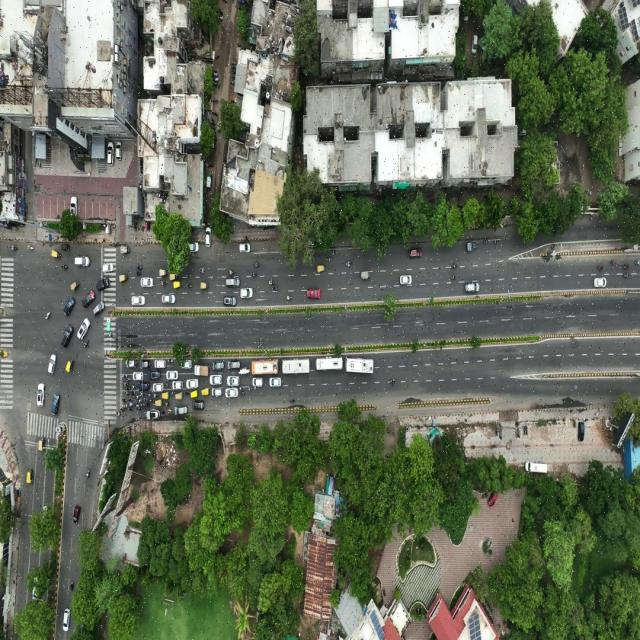3W: (37, 435, 47, 455), (65, 358, 75, 377), (119, 244, 133, 257), (24, 468, 34, 486), (360, 269, 372, 281), (70, 280, 81, 292), (119, 273, 129, 283), (200, 281, 210, 291), (50, 250, 61, 259), (173, 281, 183, 290), (316, 264, 326, 273), (159, 268, 168, 277), (169, 273, 179, 280)
Bus: (345, 355, 374, 376), (251, 358, 279, 376), (282, 358, 311, 375), (315, 355, 343, 372)
Cars: (59, 324, 75, 348), (76, 316, 90, 341), (34, 382, 45, 407), (63, 296, 76, 317), (129, 294, 147, 309), (82, 290, 96, 309), (62, 608, 72, 633), (463, 280, 480, 294), (46, 353, 56, 376), (576, 421, 586, 444), (408, 245, 423, 260), (74, 254, 90, 268), (306, 287, 322, 301), (398, 274, 414, 288), (71, 504, 81, 526), (51, 392, 60, 416), (222, 294, 236, 308), (161, 293, 176, 306), (192, 400, 207, 413), (593, 276, 608, 289), (205, 226, 213, 250), (225, 277, 240, 289), (102, 261, 115, 274), (141, 277, 154, 289), (269, 377, 282, 389), (180, 358, 192, 371), (252, 377, 264, 389), (228, 358, 240, 370), (238, 243, 251, 254), (240, 290, 253, 300), (166, 370, 179, 380), (172, 382, 184, 390)
LCV: (194, 362, 210, 378), (96, 278, 110, 291), (466, 242, 477, 254), (106, 317, 112, 332)
M2W: (388, 377, 401, 391), (42, 310, 52, 322), (69, 579, 76, 595), (344, 259, 354, 270), (84, 468, 93, 480), (9, 244, 19, 253), (250, 271, 258, 280), (199, 265, 206, 275), (26, 244, 36, 251), (253, 261, 261, 269), (61, 265, 69, 272), (186, 282, 193, 290), (598, 264, 606, 271), (633, 258, 640, 266), (451, 263, 458, 270), (289, 397, 296, 404), (623, 264, 630, 271), (623, 273, 630, 280), (136, 264, 144, 270), (160, 281, 168, 287), (610, 259, 616, 267), (228, 270, 235, 276), (286, 295, 292, 302), (273, 286, 279, 293), (483, 239, 489, 246), (493, 239, 500, 245), (327, 257, 333, 263), (450, 275, 456, 281), (268, 280, 275, 285), (331, 250, 336, 256), (135, 272, 142, 276)
